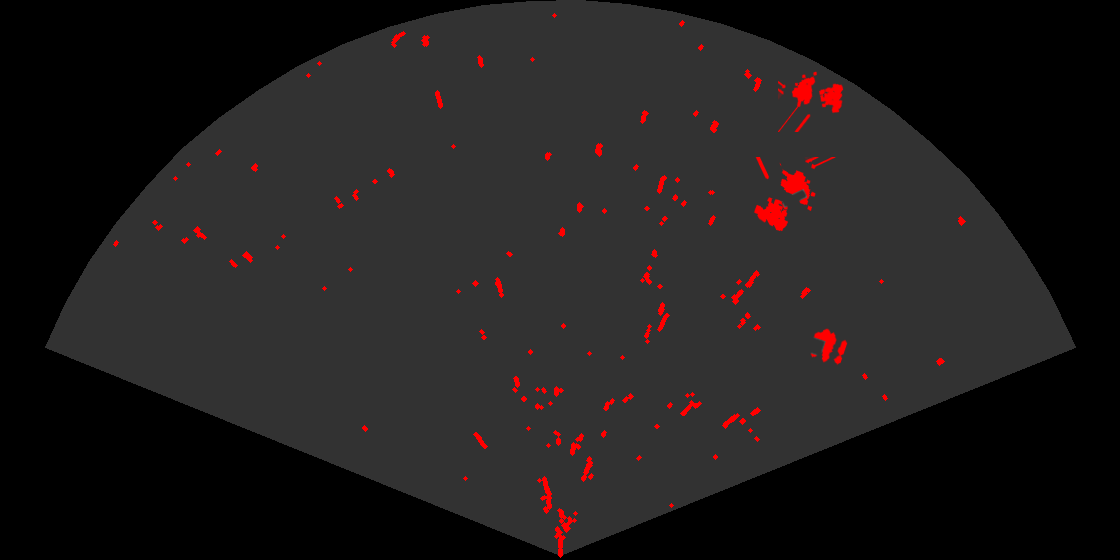ball: (809, 327, 849, 367)
cage: (753, 157, 837, 233), (778, 70, 845, 132)
